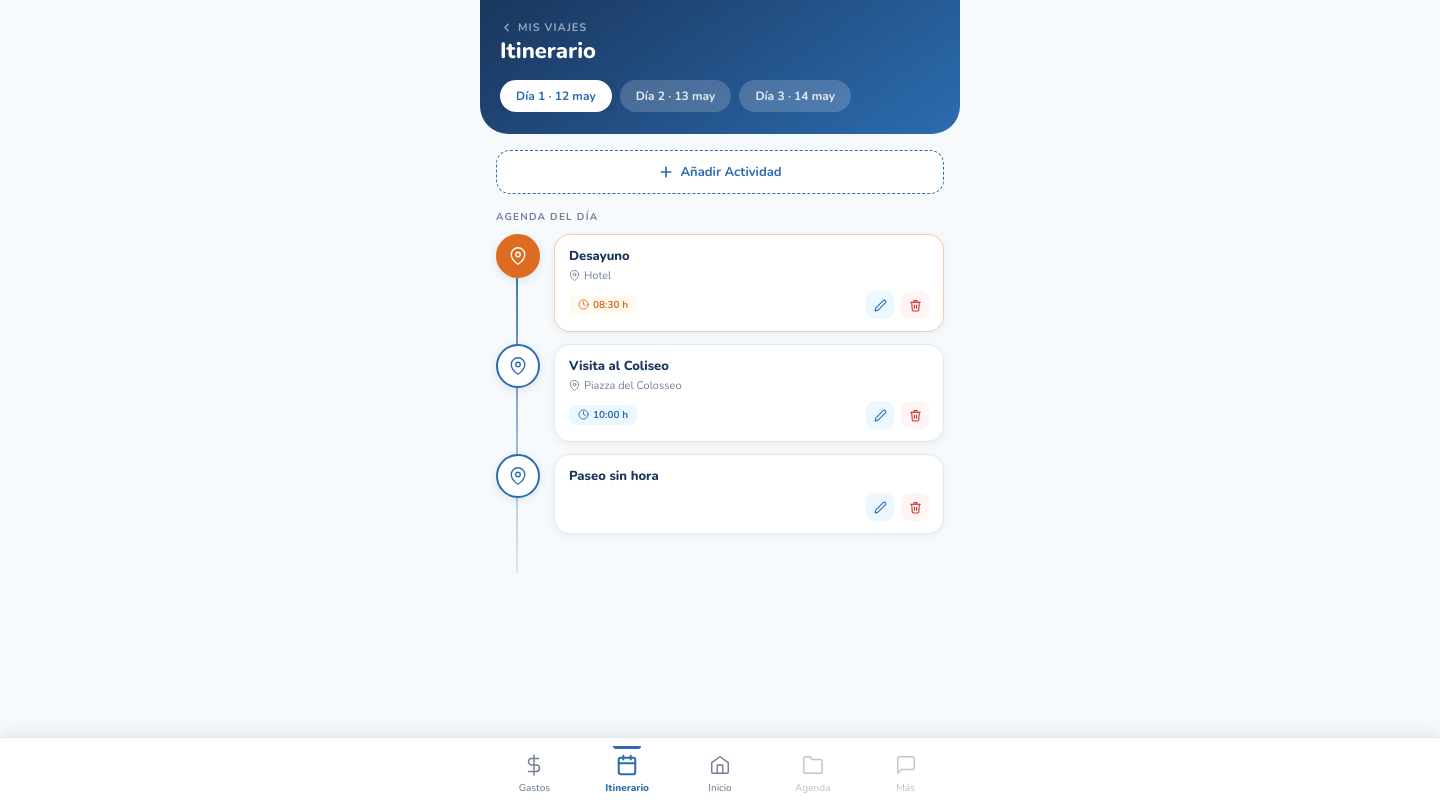
Itinerario › al elegir otro día muestra solo sus actividades
Click the button "Día 2 · 13 may": (676, 96) [620,80,731,112]
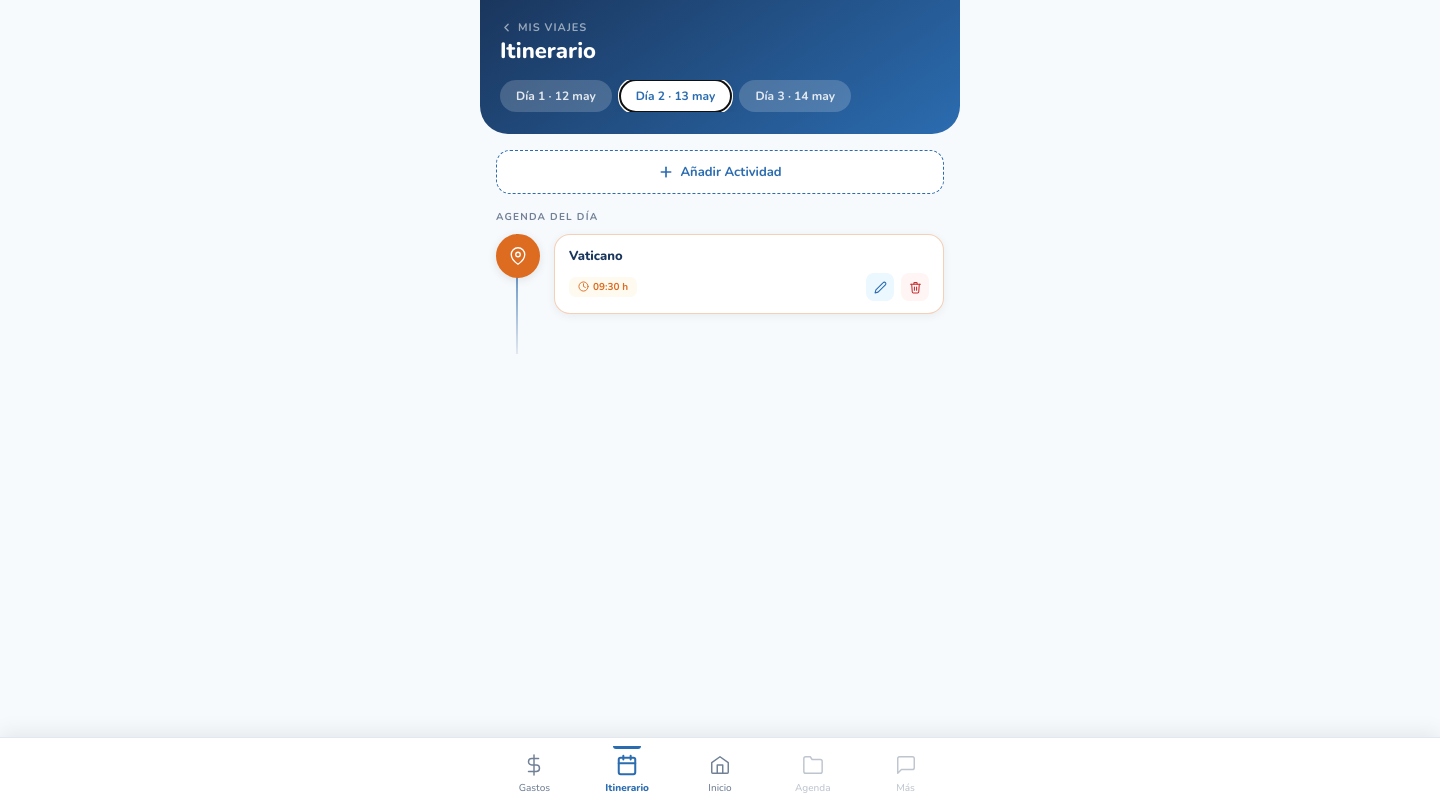
Expected: the text "Visita al Coliseo" is gone
